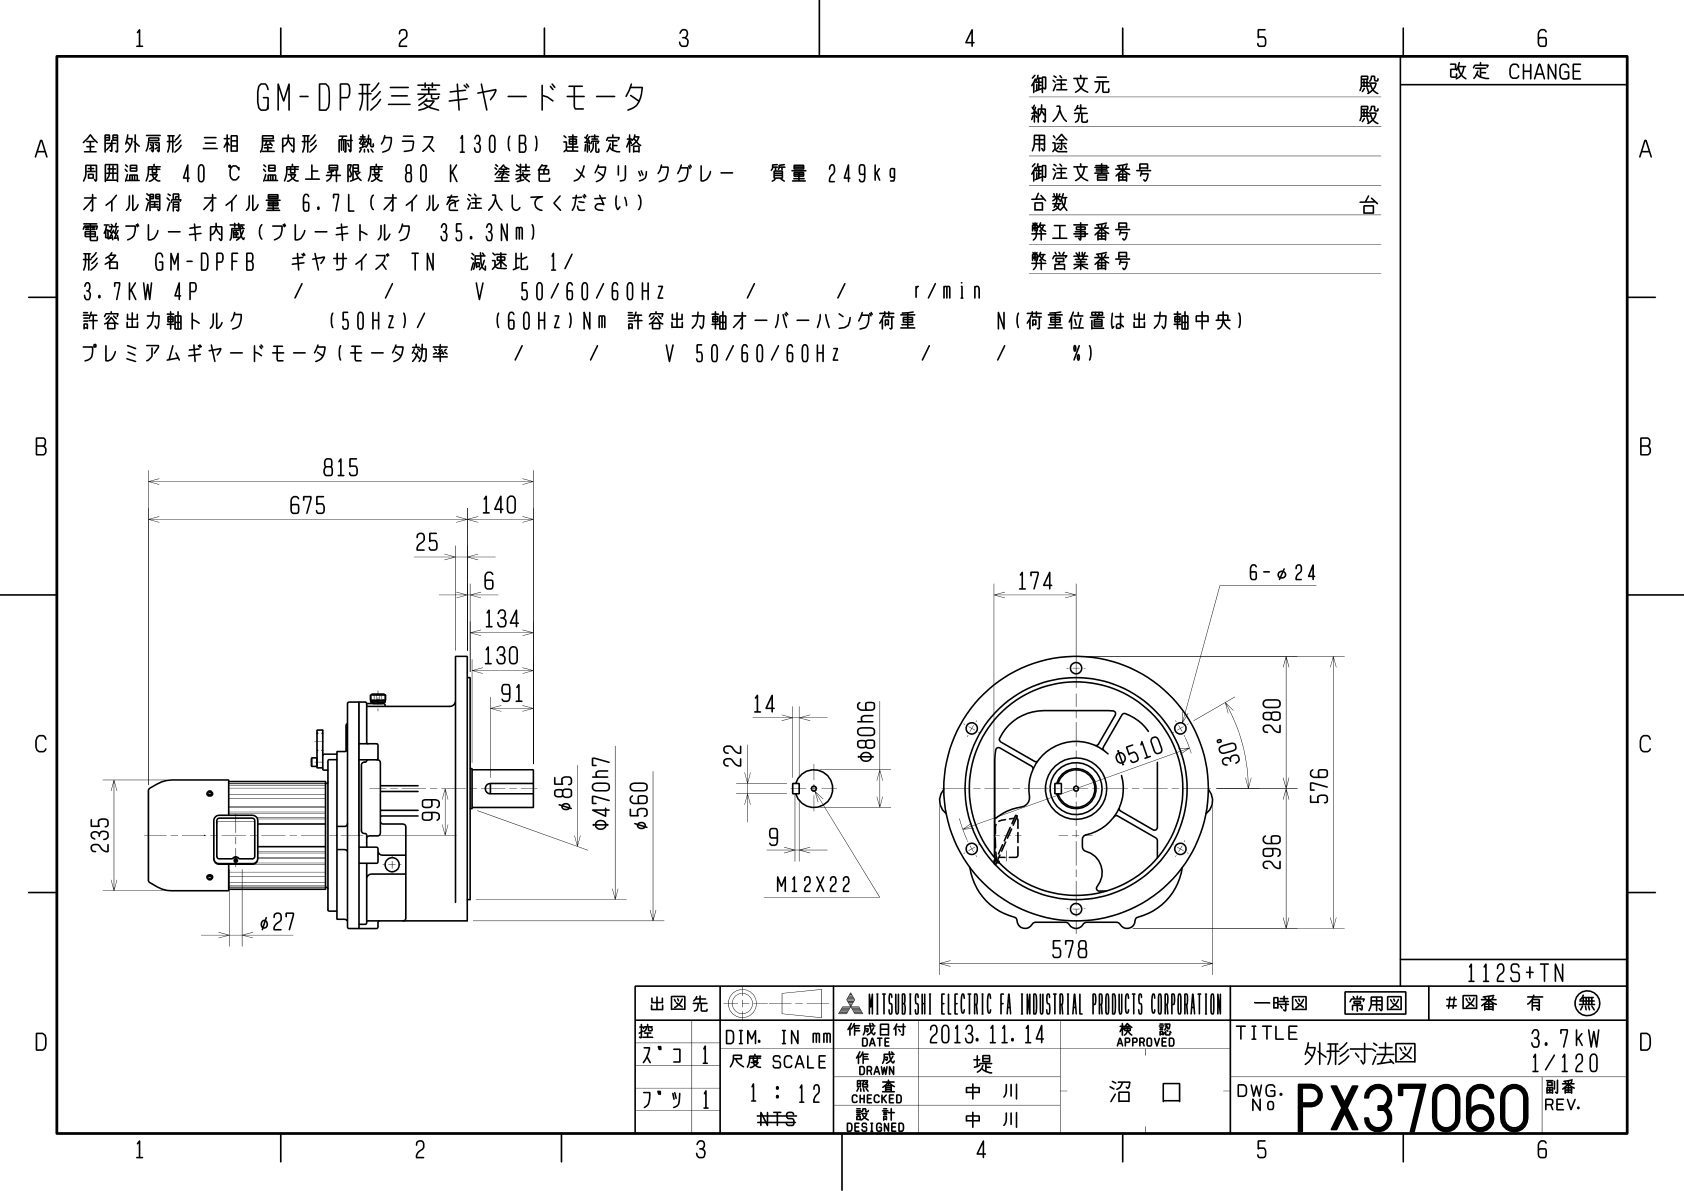GM_DP_屋内_三相_フランジ: (79, 434, 1373, 978)
